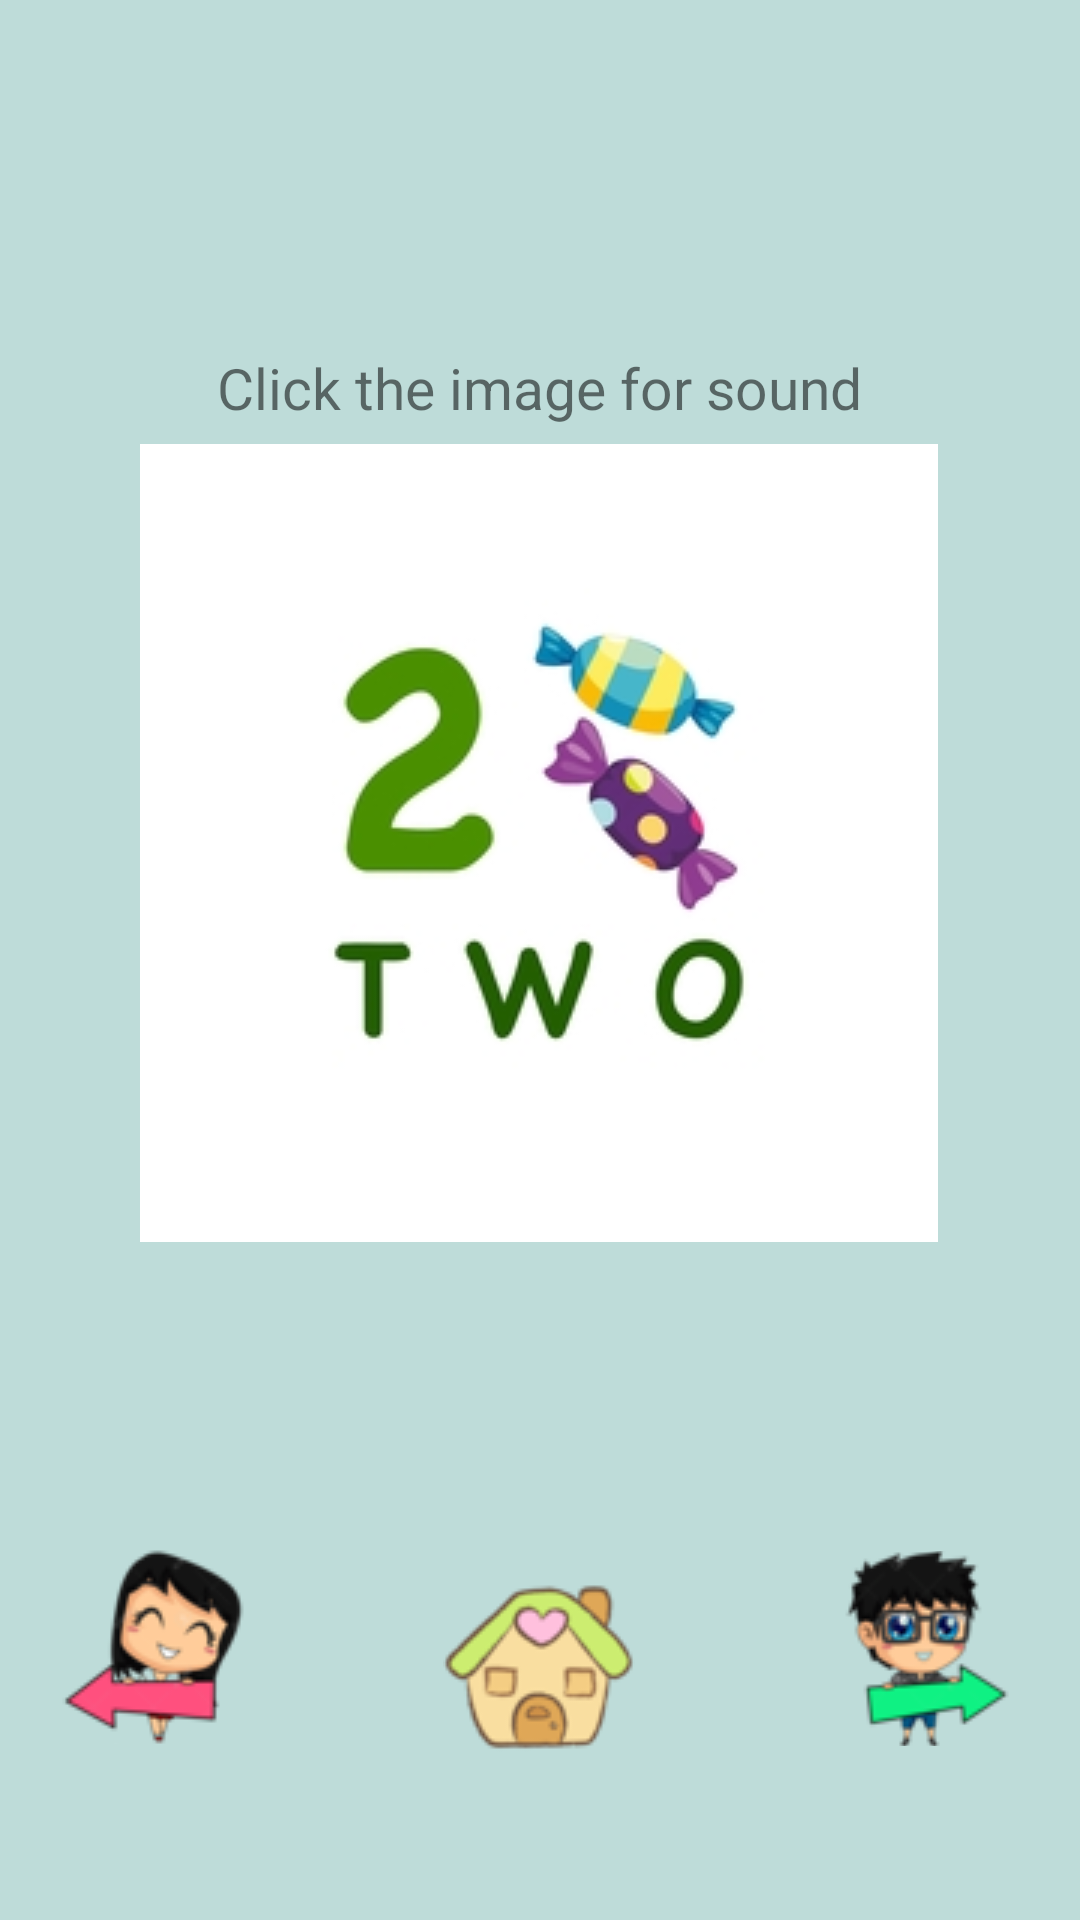

Point at icon controls on the screen. Image size 1080×1920, points as (x=x, y=y).
home: (x=539, y=1667)
next: (x=927, y=1648)
prev: (x=154, y=1647)
